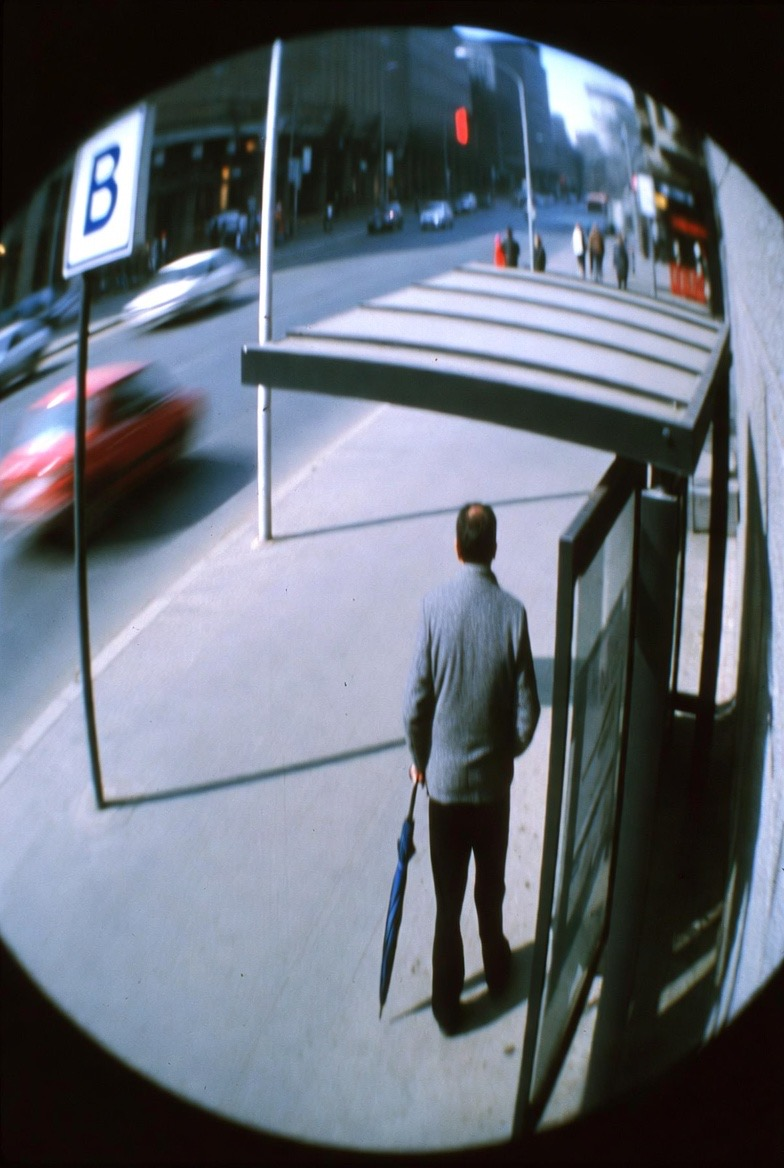person: (403, 501, 542, 1025), (614, 232, 631, 291), (588, 224, 605, 282), (572, 222, 588, 279), (505, 228, 521, 268), (533, 234, 547, 273), (323, 199, 335, 233)
umbrella: (378, 775, 421, 1015)
